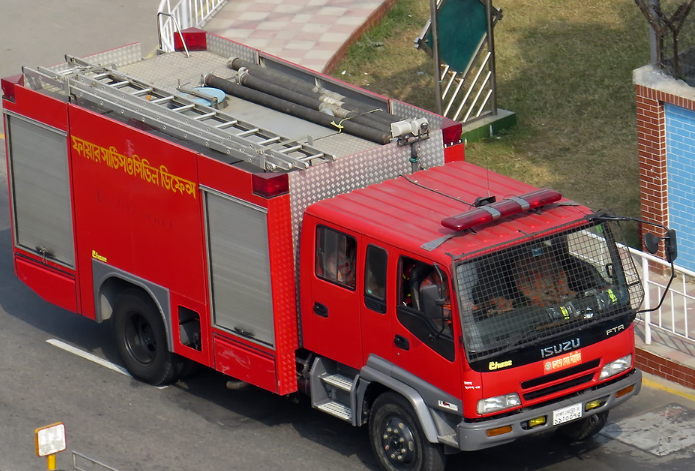Fire truck: (2, 26, 681, 465)
